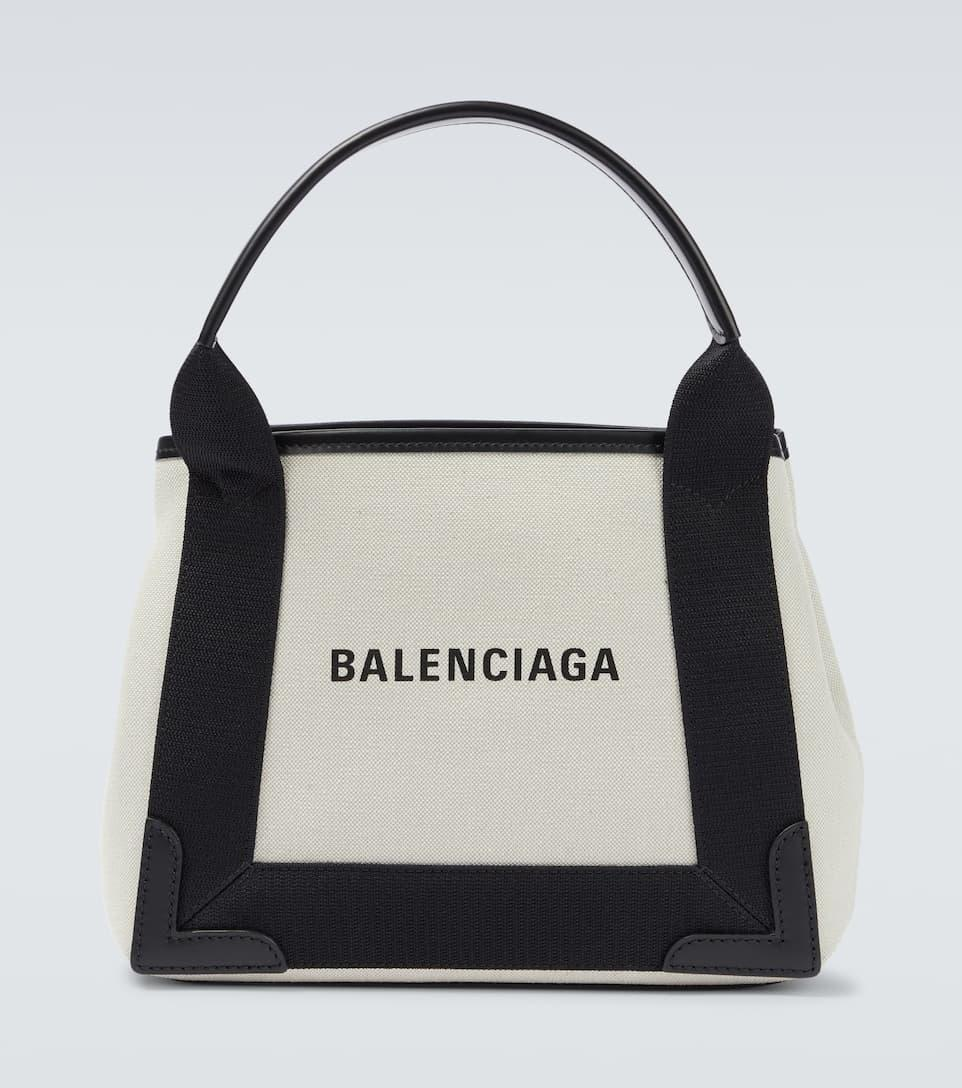BALENCIAGA: (332, 647, 621, 682)
